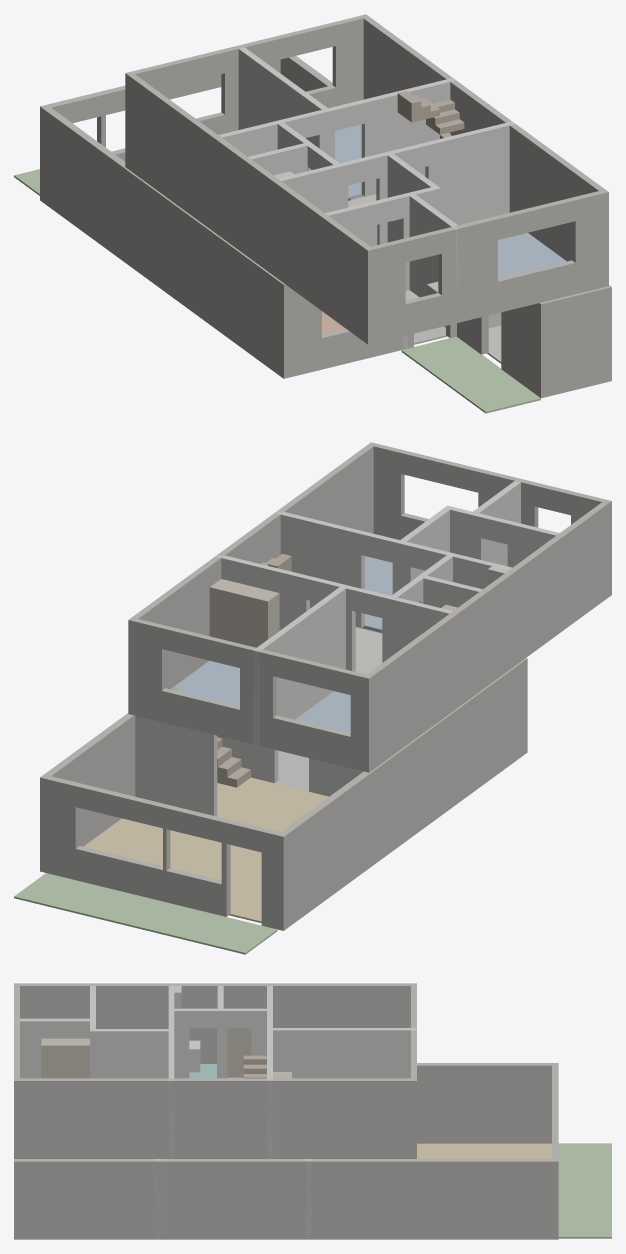
Rendered from PROP_1021.glb.
3 renders of one model, top to bottom at view 1: azimuth 30°, elevation 25°; view 2: azimuth 150°, elevation 25°; view 3: azimuth 270°, elevation 25°, orthographic. The views are drawn at different scales.
Parts seen in each view (by area): view 1: L1_wall_F1_W0, L0_wall_F0_W5, L1_wall_F1_W3, L1_wall_F1_W2, L1_wall_F1_W5, L1_wall_F1_W1, L1_wall_F1_W4, L0_wall_F0_W2, L0_wall_F0_W0, L0_floor_F0_R0_0, L1_wall_F1_W11, L0_wall_F0_W1 (+11 smaller); view 2: L1_wall_F1_W0, L0_wall_F0_W5, L1_wall_F1_W1, L0_wall_F0_W4, L1_wall_F1_W2, L0_floor_F0_R2_0, L1_wall_F1_W5, L1_wall_F1_W3, L0_floor_F0_R3_0, L1_wall_F1_W4, L0_wall_F0_W12, L1_wall_F1_W11 (+17 smaller); view 3: L0_wall_F0_W3, L1_wall_F1_W2, L1_wall_F1_W0, L0_wall_F0_W5, L1_wall_F1_W11, L0_floor_F0_R3_0, L1_wall_F1_W6, L1_wall_F1_W9, L1_wall_F1_W8, L0_floor_F0_R2_0, L1_fixture_F1_X11, L1_wall_F1_W5 (+8 smaller).
Boxes of the visible parts, bbox=[...] form: L1_wall_F1_W0: bbox=[125, 73, 370, 344]; L0_wall_F0_W5: bbox=[40, 106, 284, 378]; L1_wall_F1_W3: bbox=[368, 191, 608, 344]; L1_wall_F1_W2: bbox=[363, 14, 608, 261]; L1_wall_F1_W5: bbox=[278, 121, 515, 244]; L1_wall_F1_W1: bbox=[126, 14, 365, 134]; L1_wall_F1_W4: bbox=[218, 78, 455, 196]; L0_wall_F0_W2: bbox=[541, 286, 611, 398]; L0_wall_F0_W0: bbox=[284, 284, 456, 378]; L0_floor_F0_R0_0: bbox=[401, 337, 540, 413]; L1_wall_F1_W11: bbox=[235, 45, 329, 145]; L0_wall_F0_W1: bbox=[457, 302, 541, 397]; L1_wall_F1_W0: bbox=[366, 501, 611, 772]; L0_wall_F0_W5: bbox=[281, 658, 527, 930]; L1_wall_F1_W1: bbox=[128, 619, 368, 772]; L0_wall_F0_W4: bbox=[40, 776, 283, 930]; L1_wall_F1_W2: bbox=[129, 442, 373, 689]; L0_floor_F0_R2_0: bbox=[83, 777, 328, 923]; L1_wall_F1_W5: bbox=[275, 510, 511, 628]; L1_wall_F1_W3: bbox=[371, 442, 610, 539]; L0_floor_F0_R3_0: bbox=[14, 873, 277, 954]; L1_wall_F1_W4: bbox=[215, 555, 452, 671]; L0_wall_F0_W12: bbox=[135, 716, 217, 816]; L1_wall_F1_W11: bbox=[253, 585, 349, 745]; L0_wall_F0_W3: bbox=[14, 1158, 558, 1239]; L1_wall_F1_W2: bbox=[14, 1078, 416, 1158]; L1_wall_F1_W0: bbox=[14, 983, 416, 1063]; L0_wall_F0_W5: bbox=[417, 1063, 557, 1143]; L1_wall_F1_W11: bbox=[267, 1028, 416, 1078]; L0_floor_F0_R3_0: bbox=[558, 1143, 611, 1238]; L1_wall_F1_W6: bbox=[90, 1029, 168, 1078]; L1_wall_F1_W9: bbox=[169, 1008, 266, 1078]; L1_wall_F1_W8: bbox=[14, 1018, 89, 1078]; L0_floor_F0_R2_0: bbox=[417, 1143, 551, 1158]; L1_fixture_F1_X11: bbox=[41, 1038, 74, 1078]; L1_wall_F1_W5: bbox=[168, 986, 174, 1158].
Bounding box in the file's own units: 7.33 × 5.55 × 18.76.
